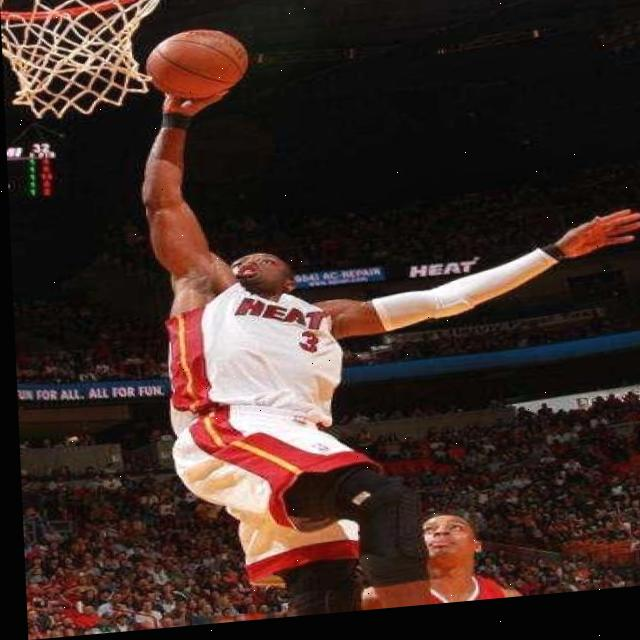basketball: (143, 24, 253, 105)
hoop: (0, 0, 169, 120)
